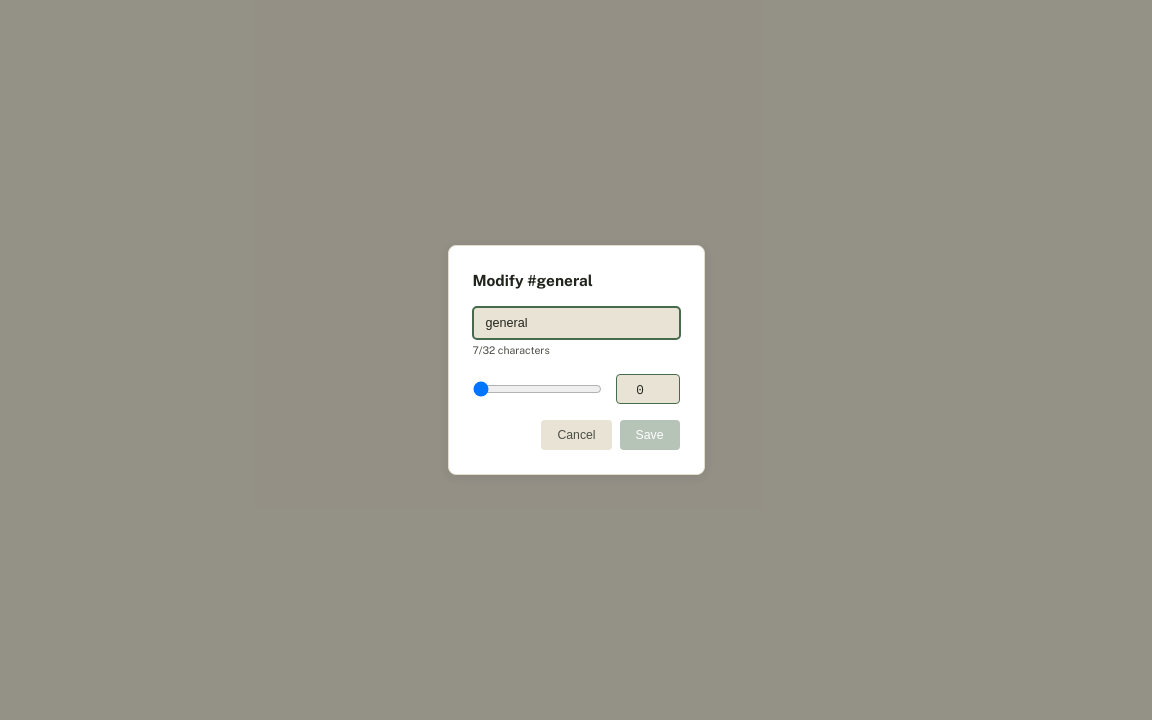
ModifyChannelDialog › Save button enabled when name changes
Replace the text in the field with placeholder "Channel name" with "announcements": point(576, 323) x1=472 y1=307 x2=680 y2=339
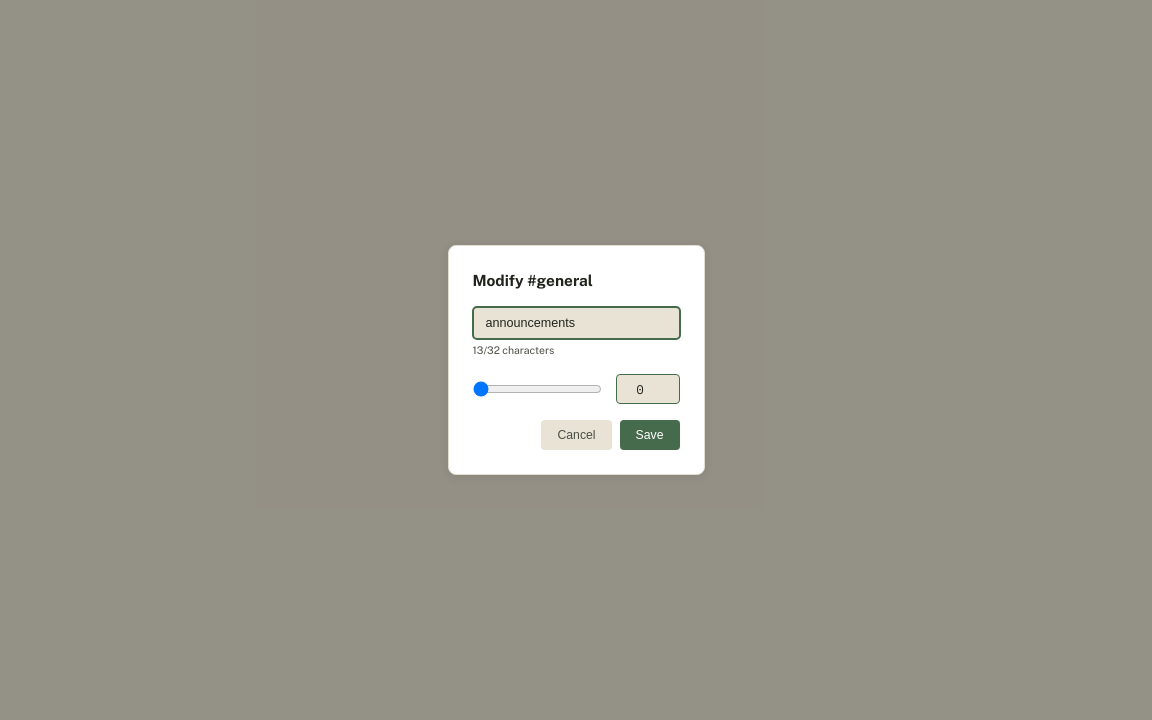
Expected: the button "Save" is enabled, x1=620 y1=420 x2=680 y2=450
